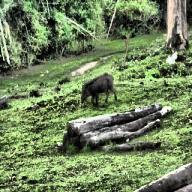boar: (79, 72, 117, 106)
